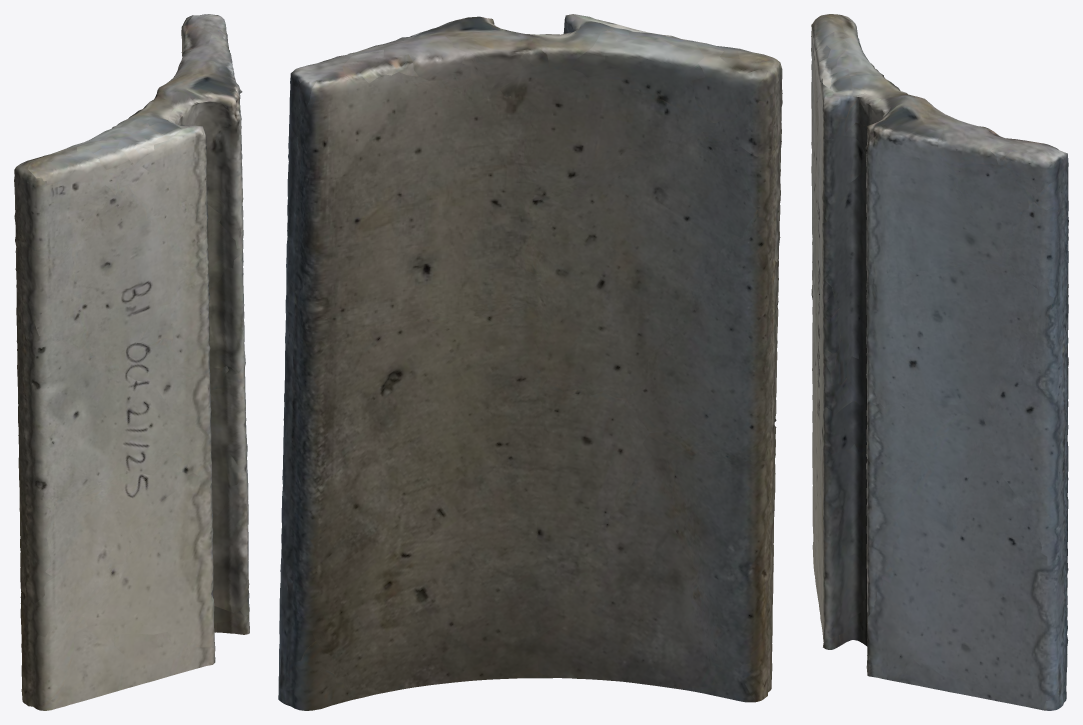
3 renders of one model, left to right at view 1: azimuth 30°, elevation 25°; view 2: azimuth 150°, elevation 25°; view 3: azimuth 270°, elevation 25°, orthographic. The views are drawn at different scales.
Visible parts, largest first — view 1: Node; view 2: Node; view 3: Node.
Part boxes in pixels (x1,y1,x2,y2): Node: [14, 14, 249, 710]; Node: [278, 14, 782, 710]; Node: [811, 14, 1068, 710].
Bounding box in the file's own units: 0.3928 × 0.6447 × 0.2728.
Materials: 1 (1 with a texture image).
